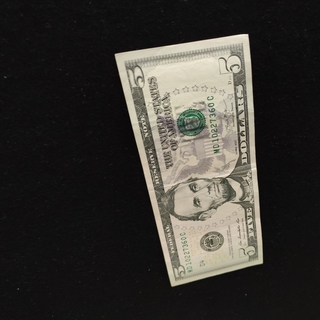5USDFront: (114, 33, 263, 287)
